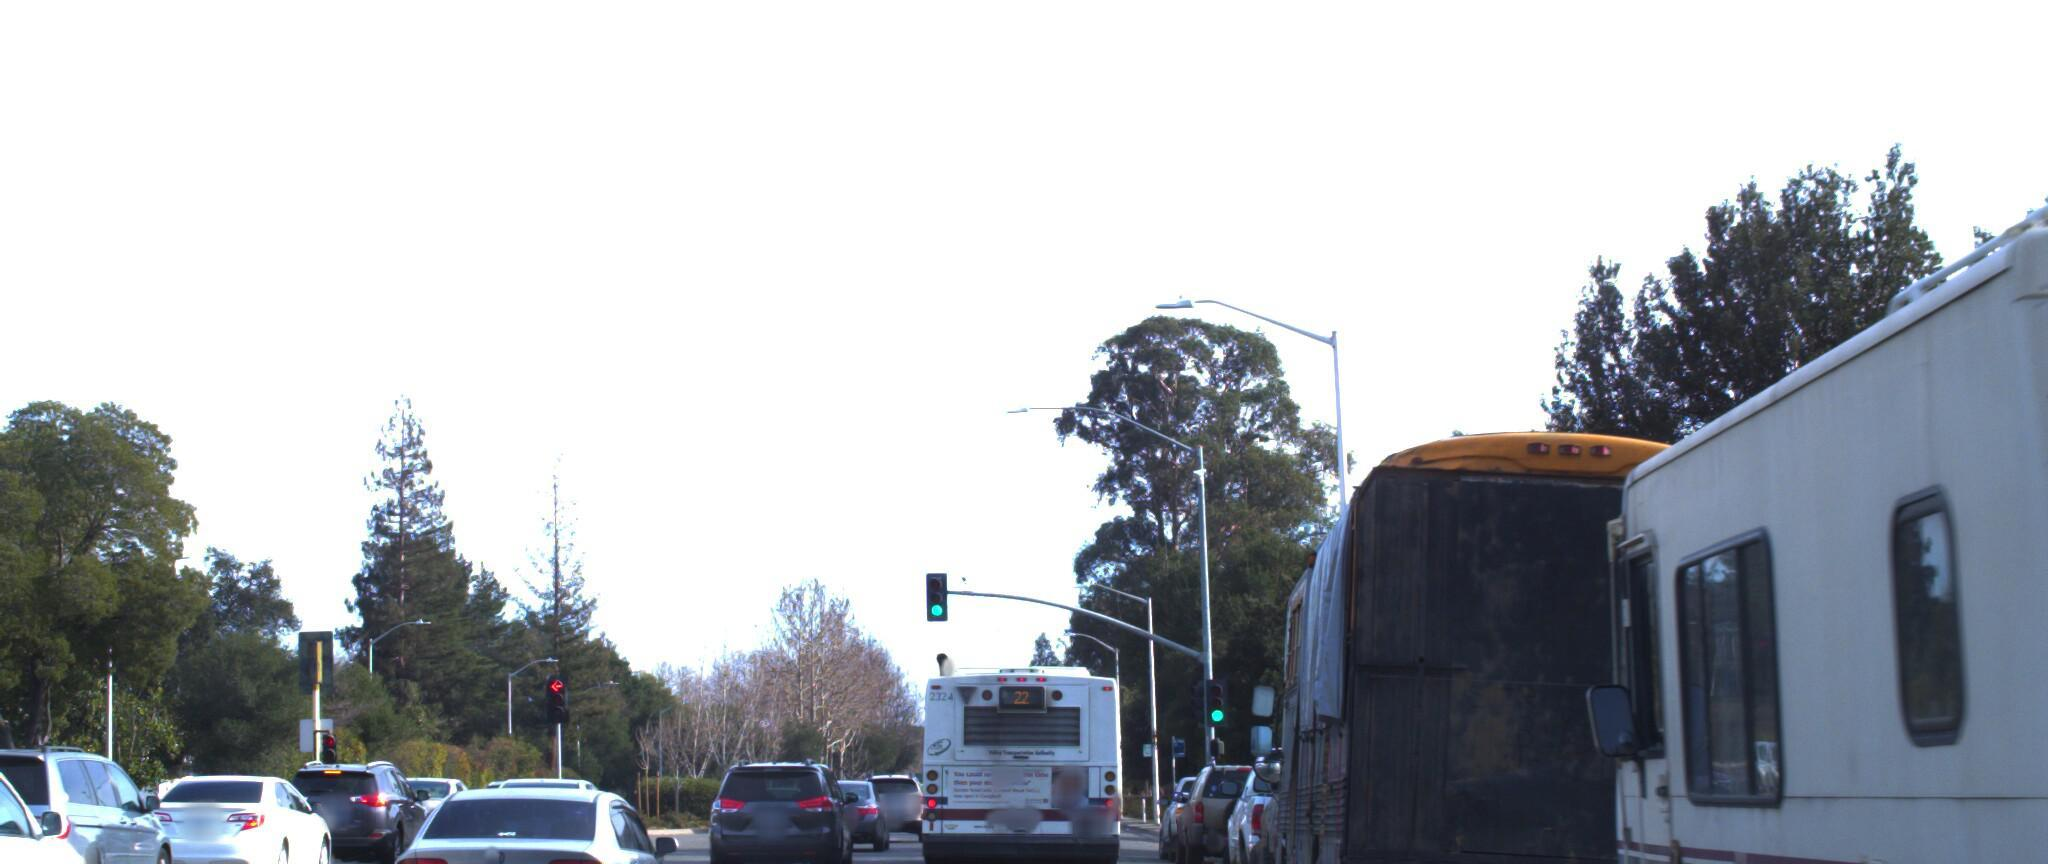bus: (1251, 420, 1906, 864), (909, 625, 1139, 864)
car: (366, 765, 705, 864), (0, 728, 206, 864), (142, 752, 359, 864), (287, 739, 455, 864), (713, 737, 859, 863), (0, 740, 131, 864), (1176, 740, 1307, 857), (805, 775, 905, 850), (880, 769, 965, 831)
other_vehicle: (1574, 0, 2048, 864)
